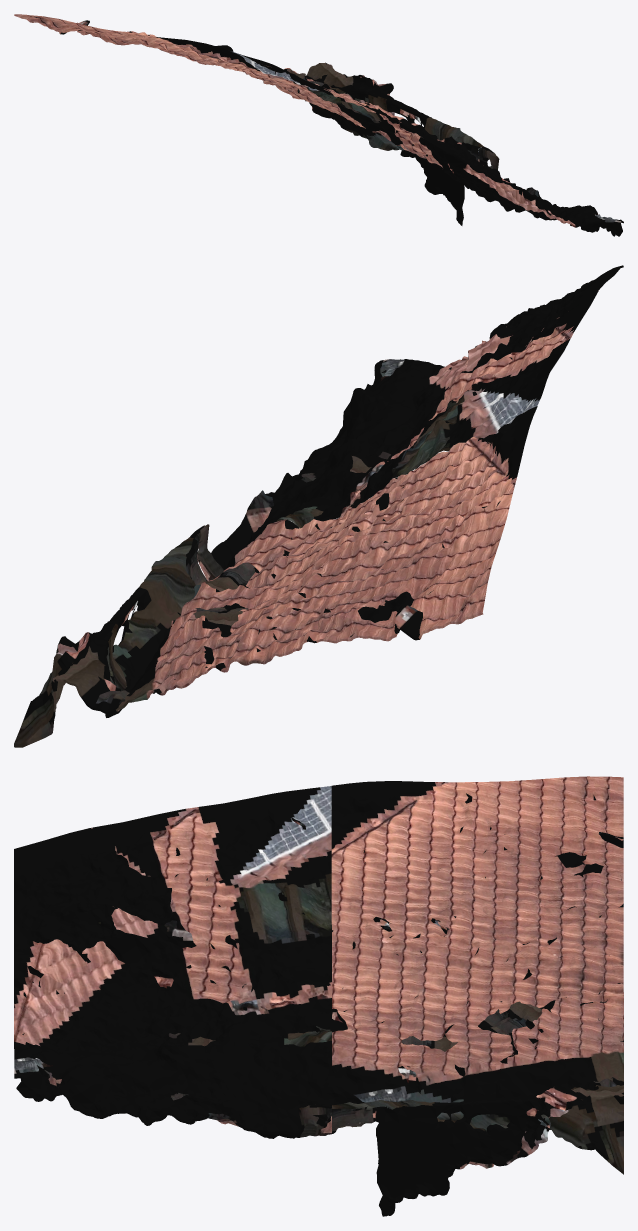
The picture shows the model from 3 angles, top to bottom: view 1: azimuth 30°, elevation 25°; view 2: azimuth 150°, elevation 25°; view 3: azimuth 270°, elevation 25°; orthographic projection. The views are drawn at different scales.
Visible parts, largest first — view 1: node_90; view 2: node_90; view 3: node_90.
Boxes of the visible parts, bbox=[...] form: node_90: bbox=[14, 14, 623, 236]; node_90: bbox=[14, 265, 623, 747]; node_90: bbox=[14, 776, 623, 1216].
Size of the model in its own units: 7.9 by 5.62 by 10.68.
1 material, 1 textured.
